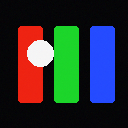2 circle: (27, 40, 53, 66)
